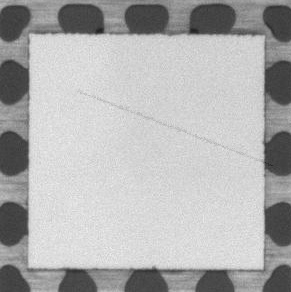DIE_CRACK: (78, 91, 271, 166)
